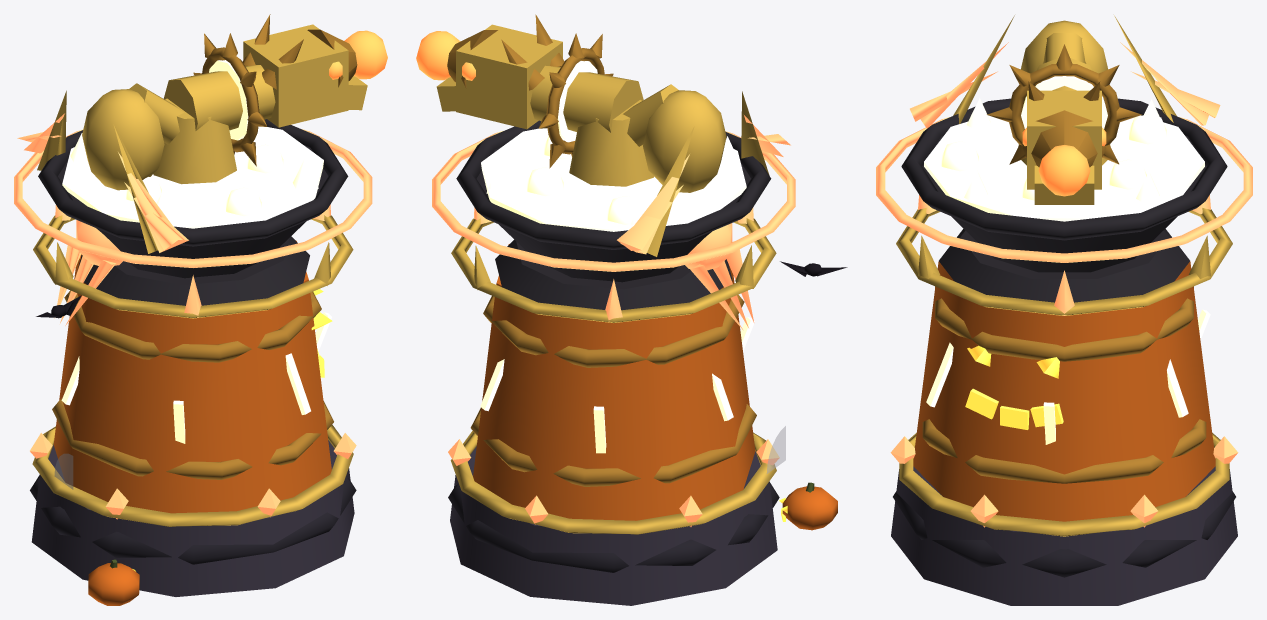
Rendered from tower_flame_sunfire_ultimate.glb.
3 renders of one model, left to right at view 1: azimuth 30°, elevation 25°; view 2: azimuth 150°, elevation 25°; view 3: azimuth 270°, elevation 25°, orthographic. The views are drawn at different scales.
Parts seen in each view (by area): view 1: body, base, coals, brazier_lip, dragon_head, brazier_foot, gas_tank, ult_ring, ult_halo, ult_phoenix, ult_crown_band, soot_ring (+17 smaller); view 2: body, base, coals, brazier_lip, dragon_head, brazier_foot, gas_tank, ult_ring, ult_halo, ult_phoenix, ult_crown_band, soot_ring (+14 smaller); view 3: body, base, coals, brazier_lip, brazier_foot, ult_halo, ult_ring, ult_crown_band, soot_ring, body_band_0.3, brazier_bowl, body_band_0.15 (+17 smaller).
Part boxes in pixels (x1,y1,x2,y2): body: (53,240,331,513); base: (31,440,354,596); coals: (62,126,323,228); brazier_lip: (38,119,348,246); dragon_head: (243,24,348,127); brazier_foot: (78,236,309,305); gas_tank: (82,89,164,190); ult_ring: (32,424,353,526); ult_halo: (14,129,372,267); ult_phoenix: (17,90,188,325); ult_crown_band: (33,215,353,318); soot_ring: (30,475,356,564); body: (473,244,755,520); base: (450,446,777,605); coals: (481,128,746,231); brazier_lip: (456,120,771,249); dragon_head: (456,24,562,129); brazier_foot: (495,239,732,310); gas_tank: (643,90,726,192); ult_ring: (450,431,776,534); ult_halo: (432,131,795,271); ult_phoenix: (617,91,790,330); ult_crown_band: (451,218,776,322); soot_ring: (448,482,779,572); body: (913,261,1215,521); base: (891,466,1237,605); coals: (924,115,1204,221); brazier_lip: (901,98,1227,240); brazier_foot: (939,229,1189,302); ult_halo: (876,117,1252,262); ult_ring: (899,433,1229,536); ult_crown_band: (896,208,1232,315); soot_ring: (893,491,1235,577); body_band_0.3: (935,286,1193,361); brazier_bowl: (922,135,1206,272); body_band_0.15: (922,419,1206,483).
Size of the model in its own units: 0.5324 by 0.64 by 0.4274.
